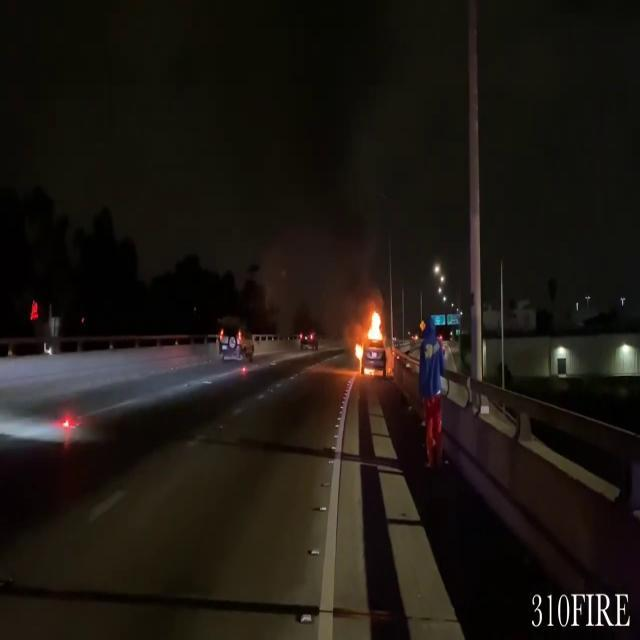Fire: (353, 304, 386, 374)
Smoke: (230, 148, 420, 330)
